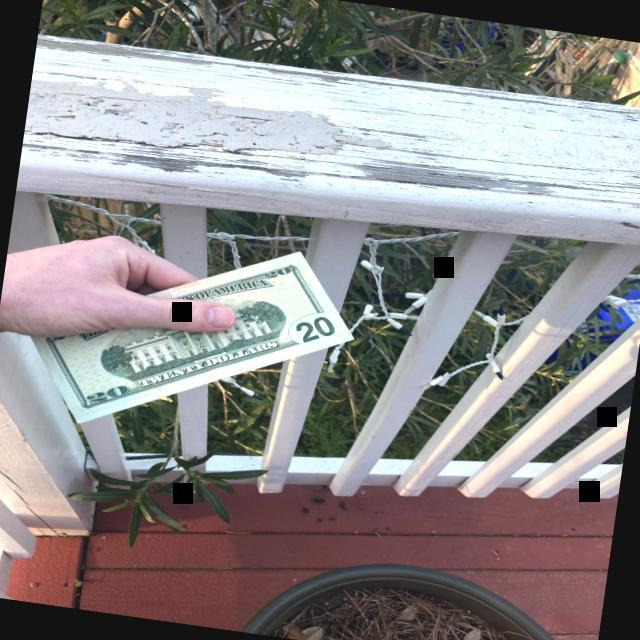twenty: (28, 250, 353, 423)
